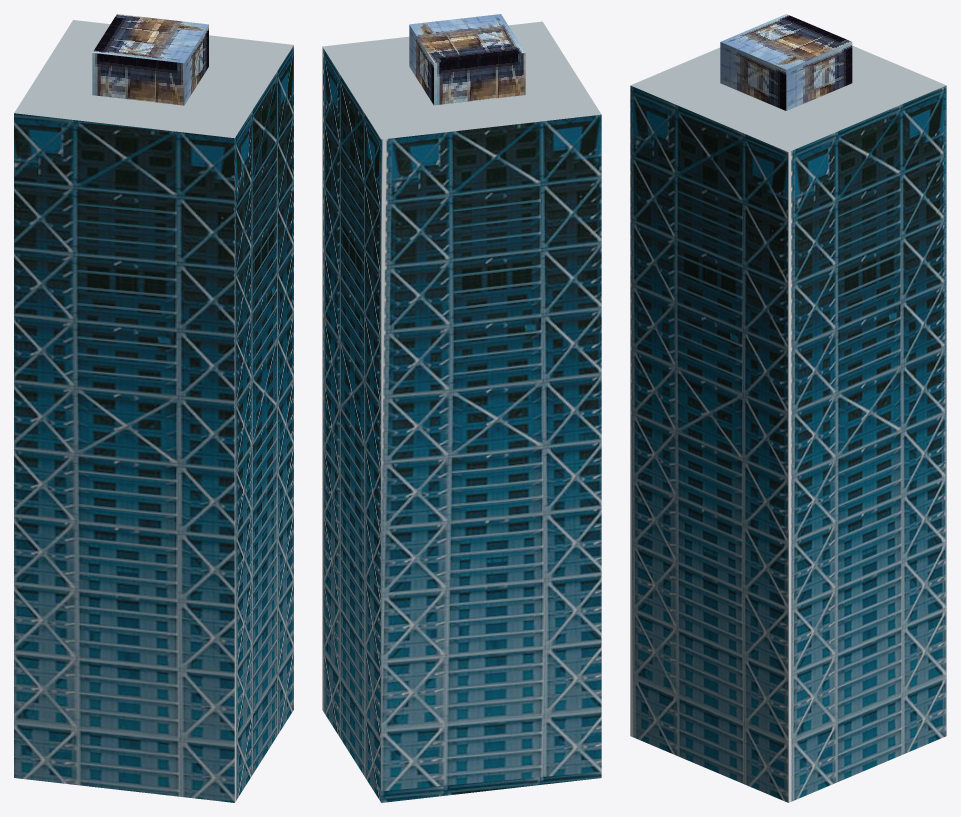
File: ES_CAT_BCN_hotel_arts.glb
3 views of the same model, side by side, from view 1: azimuth 30°, elevation 25°; view 2: azimuth 150°, elevation 25°; view 3: azimuth 270°, elevation 25° (orthographic). The views are drawn at different scales.
Visible parts, largest first — view 1: Cube.002, Cube.001; view 2: Cube.002, Cube.001; view 3: Cube.002, Cube.001.
Part boxes in pixels (x1,y1,x2,y2): Cube.002: (14, 20, 293, 802); Cube.001: (92, 14, 208, 105); Cube.002: (322, 21, 601, 802); Cube.001: (409, 14, 525, 105); Cube.002: (630, 45, 946, 802); Cube.001: (720, 14, 852, 110).
Bounding box in the file's own units: 6.79 × 16.38 × 6.79.
2 materials, 2 textured.
